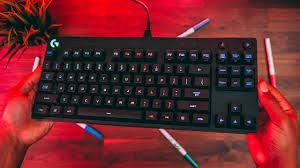keyboard: (35, 28, 261, 137)
